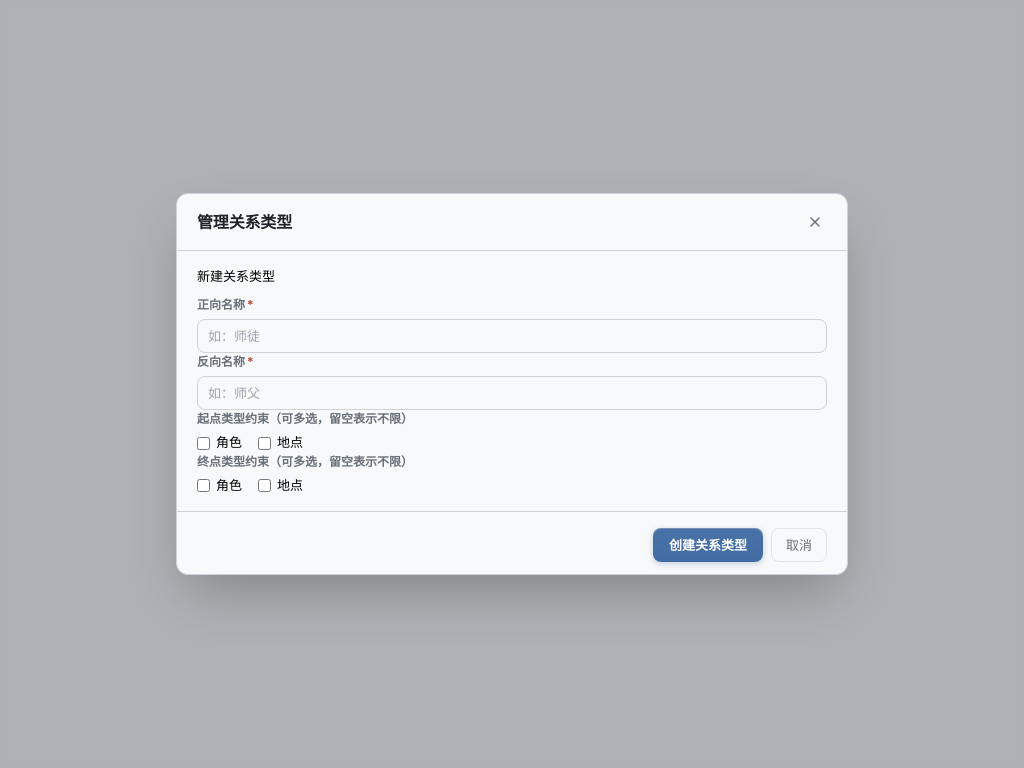
Test: RelationTypeEditor 自定义关系类型 › 缺少正反名称时不提交
Type "只有正向" into the field with placeholder "如：师徒". click: (512, 336)
box: [197, 319, 827, 353]
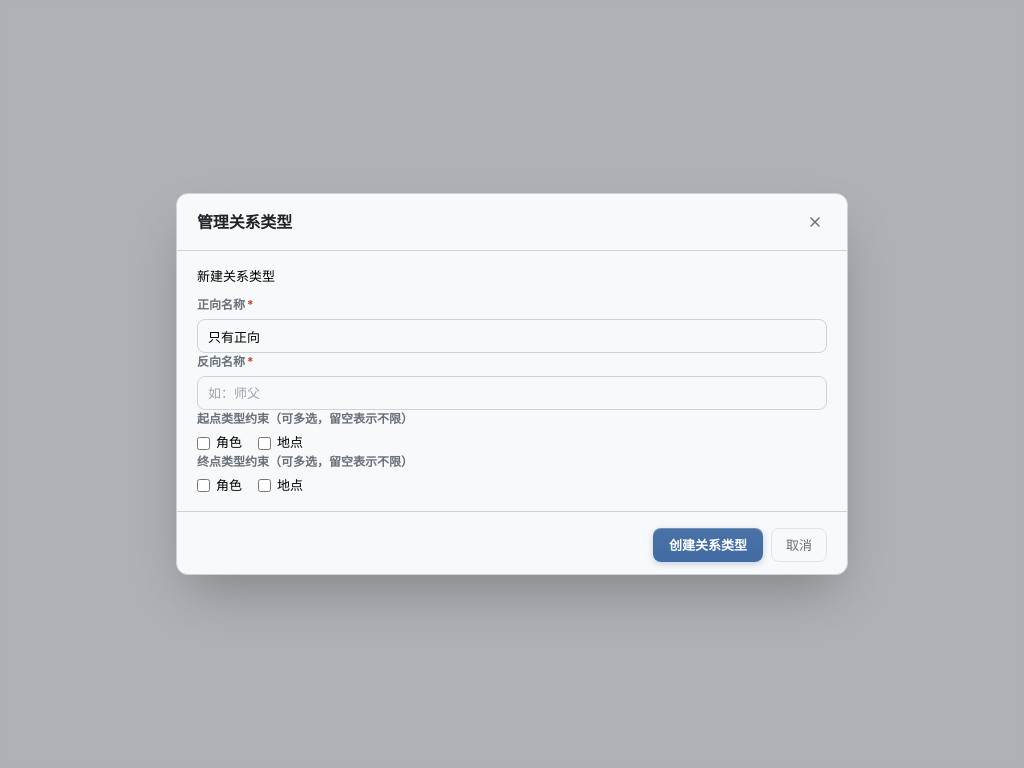
Click the button "创建关系类型". click: (708, 545)
box: [653, 528, 763, 562]
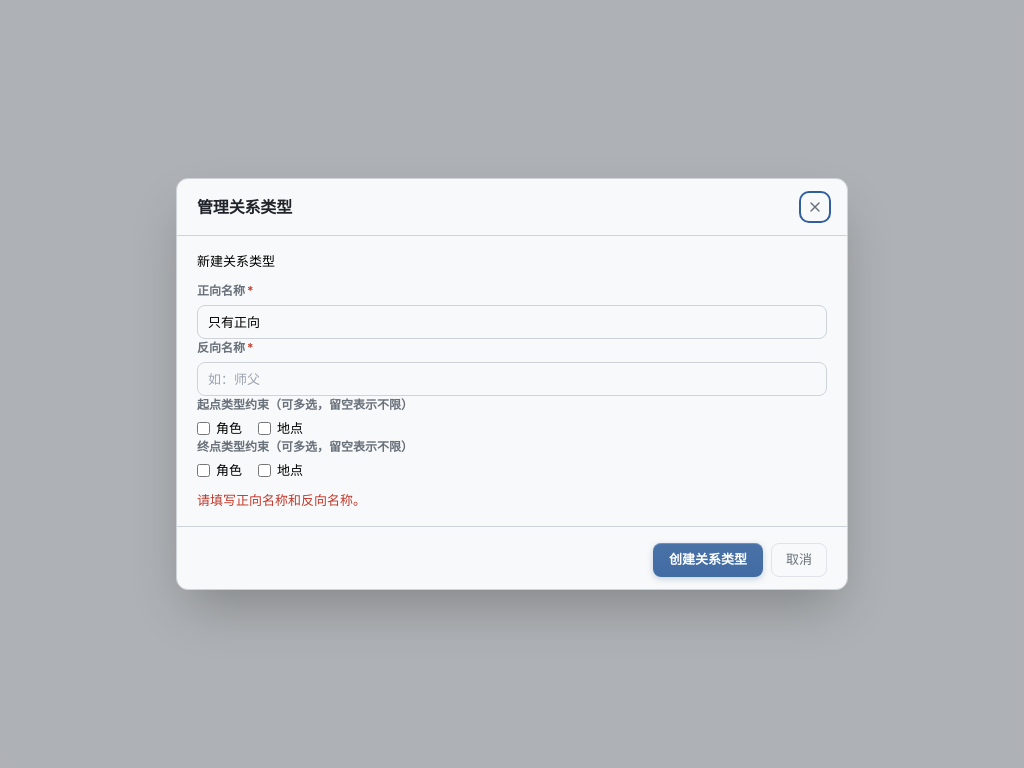
Result: the text "请填写正向名称和反向名称。" is shown at [197, 492, 366, 508]
